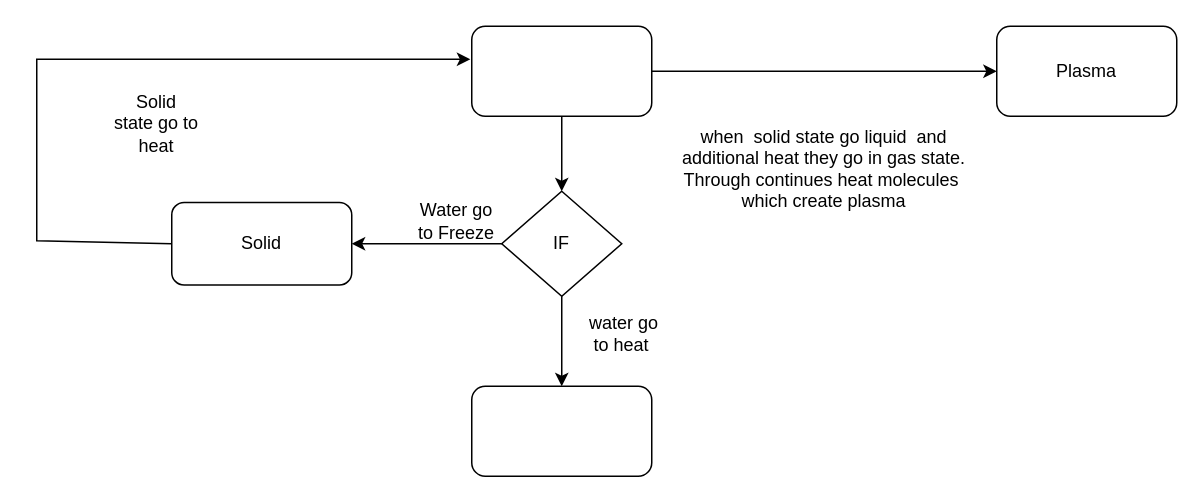
Some shapes in this 1203 by 503 pixel diagram are drawn without their labels. The box of each missing label's shape, as (x1, y1, x2, y2) in pixels:
Liquid: (470, 25, 652, 116)
Vapor: (470, 385, 652, 476)
